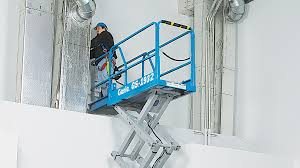Scissor Lift: (92, 20, 196, 168)
